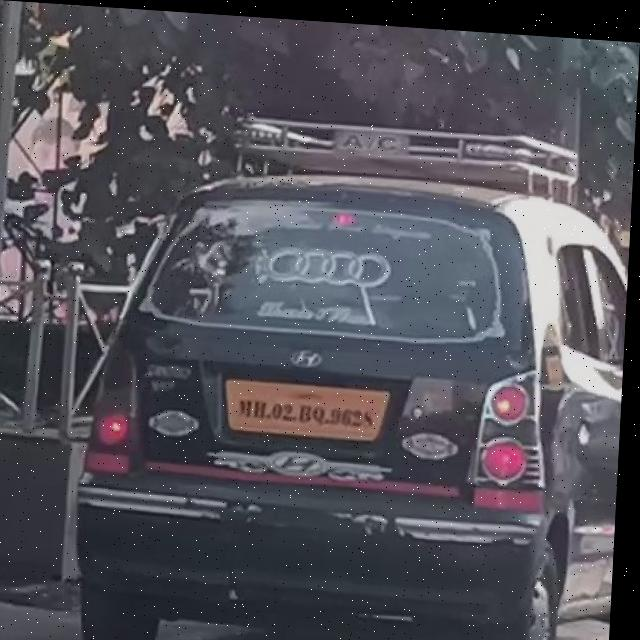plate: (225, 372, 395, 436)
